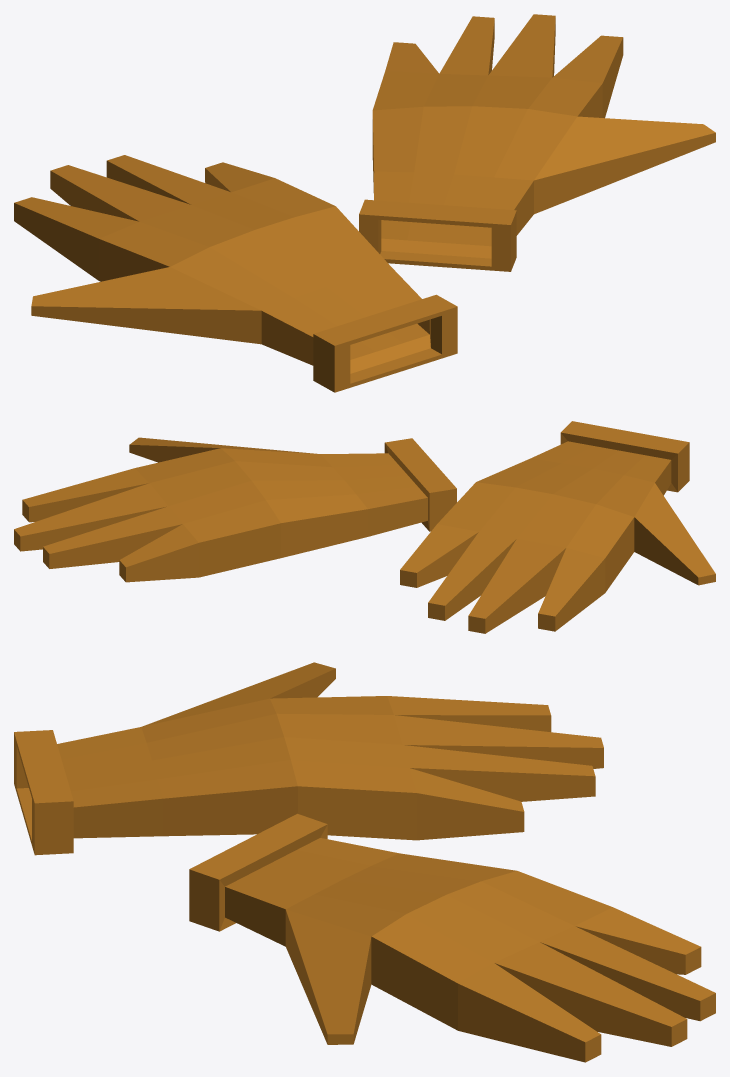
File: gloves2.fbx
3 views of the same model, one above another, from view 1: azimuth 30°, elevation 25°; view 2: azimuth 150°, elevation 25°; view 3: azimuth 270°, elevation 25° (orthographic). The views are drawn at different scales.
Parts seen in each view (by area): view 1: Cube; view 2: Cube; view 3: Cube.
Boxes of the visible parts, x1,y1,x2,y2 form: Cube: (14, 14, 715, 392); Cube: (14, 421, 715, 633); Cube: (14, 662, 715, 1062).
Size of the model in its own units: 795 by 67.47 by 612.
